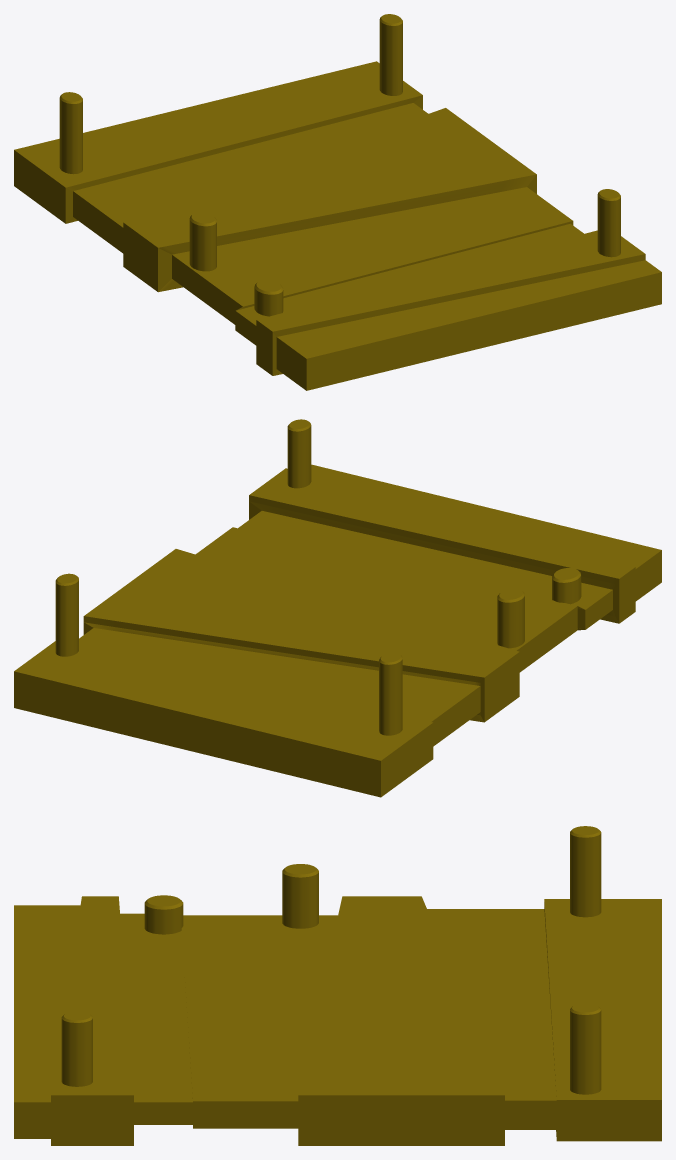
The model's file is Docks.fbx.
3 views of the same model, one above another, from view 1: azimuth 30°, elevation 25°; view 2: azimuth 150°, elevation 25°; view 3: azimuth 270°, elevation 25° (orthographic). The views are drawn at different scales.
Visible parts, largest first — view 1: Deck, pCylinder4, pCylinder5, pCylinder9, pCylinder6, pCylinder7; view 2: Deck, pCylinder5, pCylinder4, pCylinder9, pCylinder6, pCylinder7; view 3: Deck, pCylinder4, pCylinder5, pCylinder9, pCylinder6, pCylinder7.
Part boxes in pixels (box(x1,y1,x2,y2)): Deck: box(14, 61, 661, 390); pCylinder4: box(379, 14, 402, 95); pCylinder5: box(59, 92, 82, 174); pCylinder9: box(597, 189, 620, 257); pCylinder6: box(189, 212, 216, 271); pCylinder7: box(254, 280, 283, 316); Deck: box(14, 464, 661, 797); pCylinder5: box(379, 652, 402, 735); pCylinder4: box(55, 573, 78, 656); pCylinder9: box(287, 419, 311, 488); pCylinder6: box(497, 588, 524, 648); pCylinder7: box(552, 568, 581, 604); Deck: box(14, 896, 661, 1145); pCylinder4: box(570, 1003, 601, 1094); pCylinder5: box(570, 826, 601, 917); pCylinder9: box(61, 1011, 92, 1086); pCylinder6: box(282, 864, 318, 928); pCylinder7: box(144, 895, 183, 934).
Bounding box in the file's own units: 3.3 × 0.9751 × 4.5.
